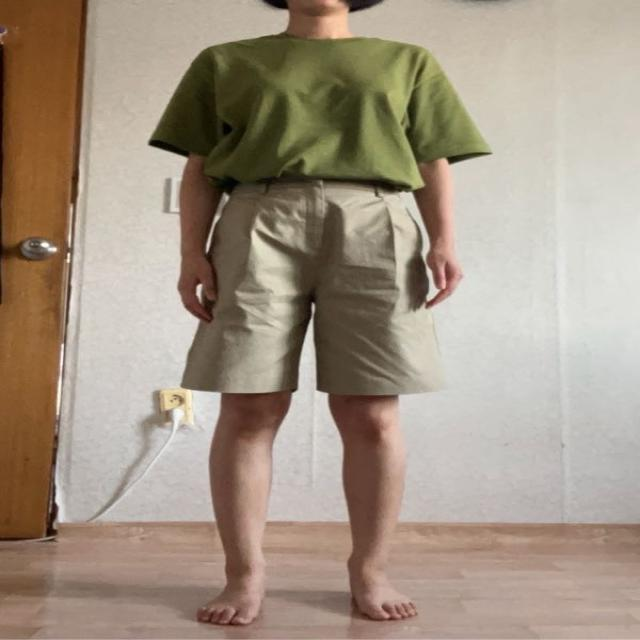shortpants: (185, 182, 436, 395)
shortsleeve: (152, 30, 493, 191)
